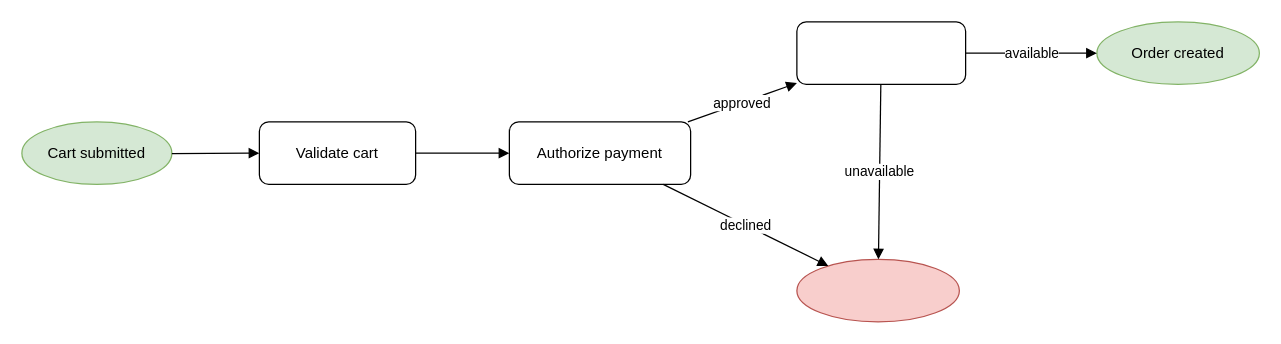
The diagram is 1281 pixels wide and 344 high, and some of its shapes have lost their labels. The centre of each missing label's shape, as x and y in pixels:
Reject checkout: the point at 877,290
Reserve stock: the point at 881,52
